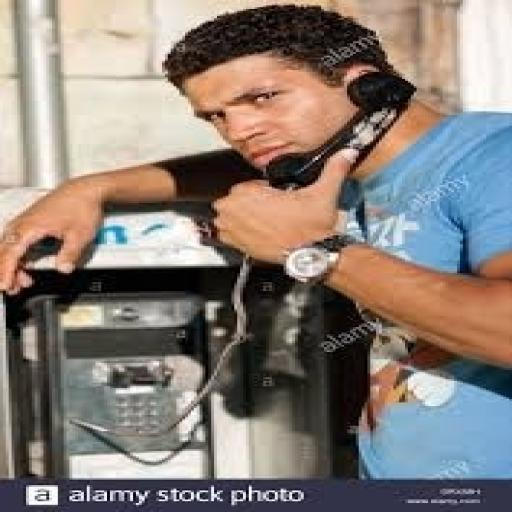calling: (0, 2, 509, 478)
